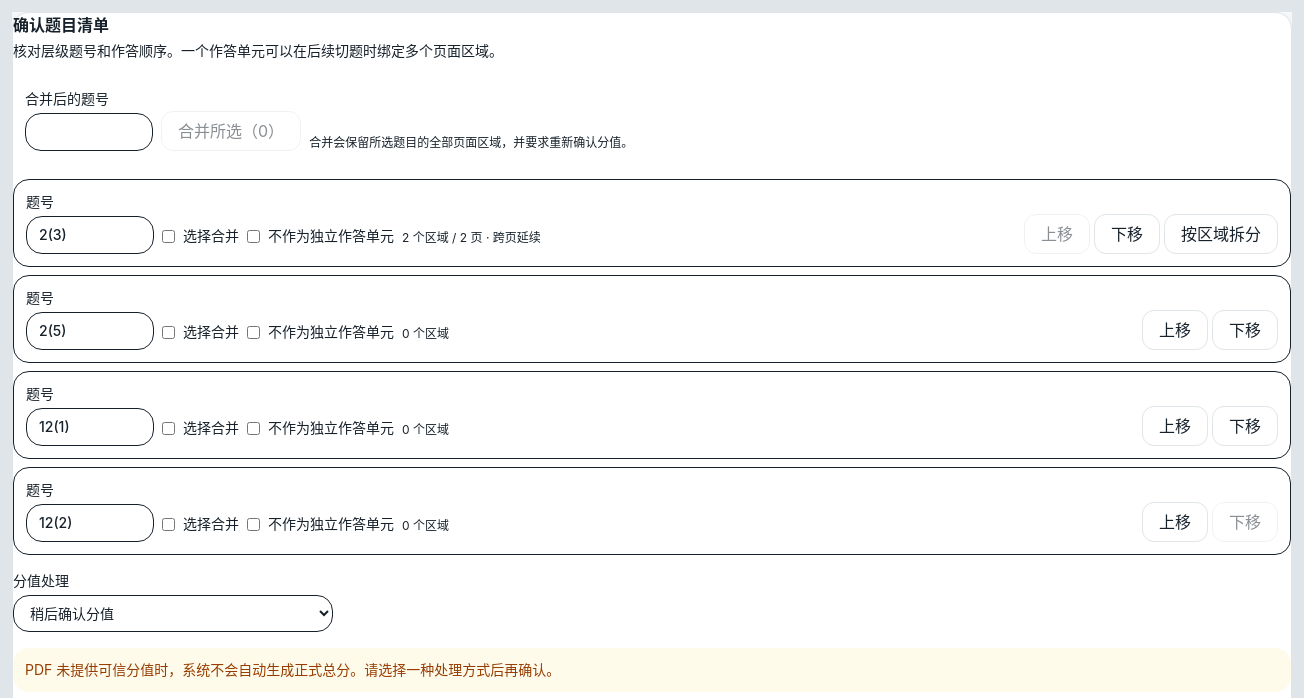
Test: QuestionStructureReviewPanel › shows hierarchical answer units and autosaves teacher edits
Expected: the 4th field showing "12(2)" is shown, [26, 504, 154, 542]
Expected: the text "PDF 未提供可信分值时，系统不会自动生成正式总分。请选择一种处理方式后再确认。" is shown, [13, 648, 1291, 692]
Replace the text in the field named "第 1 个作答单元题号" with "2(4)" at (90, 235), box [26, 216, 154, 254]
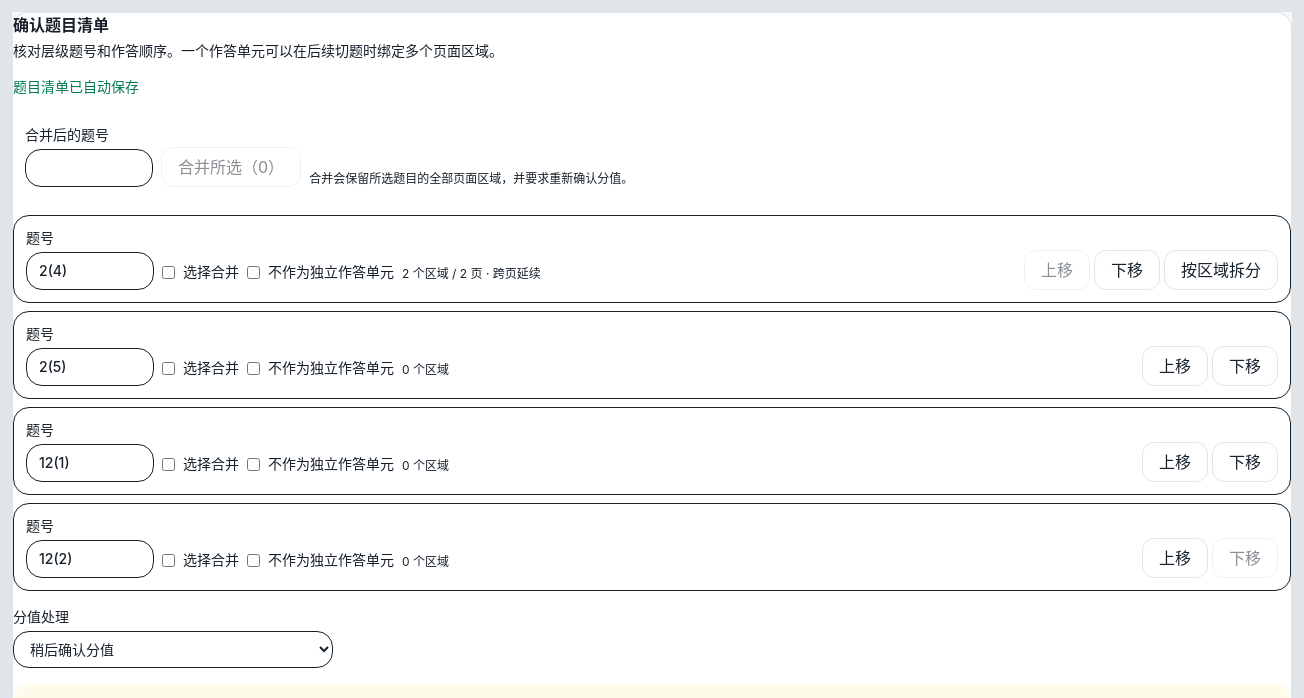
Expected: the text "题目清单已自动保存" is shown, [13, 78, 139, 95]
